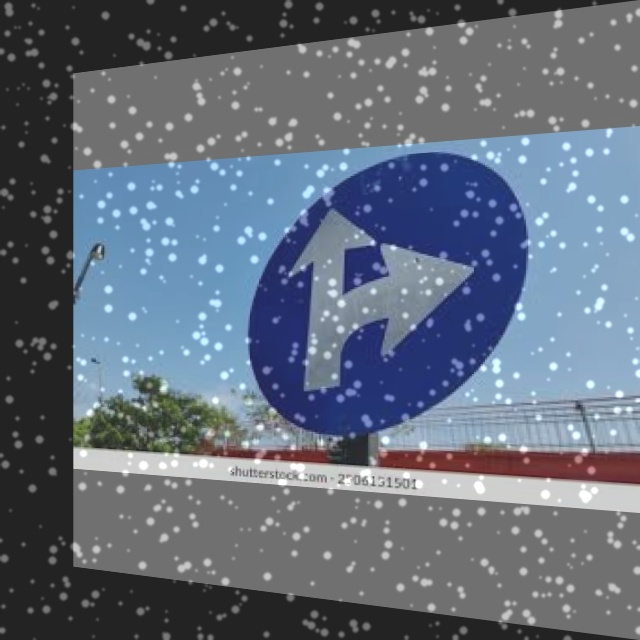Compulsory_Ahead_or_Turn_Right: (253, 157, 517, 451)
